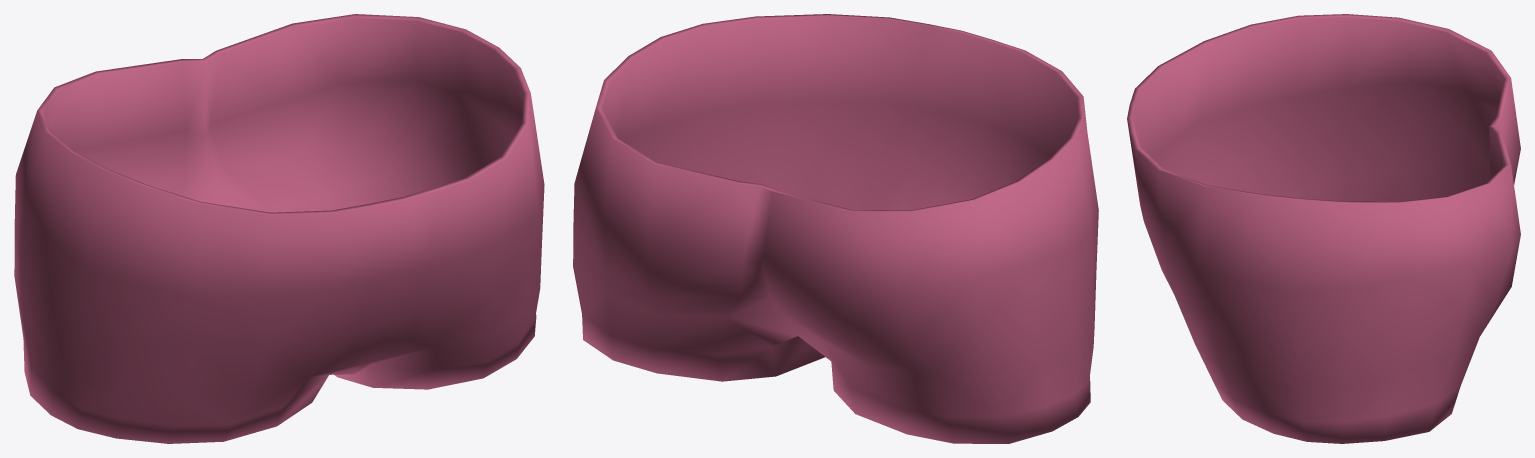
Rendered from CUShorts.fbx.
3 views of the same model, side by side, from view 1: azimuth 30°, elevation 25°; view 2: azimuth 150°, elevation 25°; view 3: azimuth 270°, elevation 25° (orthographic). The views are drawn at different scales.
Visible parts, largest first — view 1: Undies; view 2: Undies; view 3: Undies.
Part boxes in pixels (bbox=[...]): Undies: bbox=[14, 14, 544, 443]; Undies: bbox=[573, 14, 1098, 443]; Undies: bbox=[1127, 14, 1520, 443].
Bounding box in the file's own units: 164 × 86.19 × 131.
